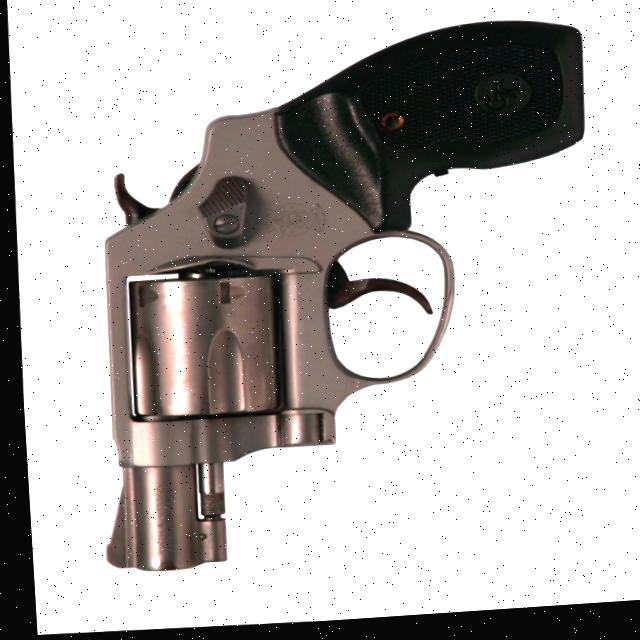pistol: (71, 14, 604, 584)
